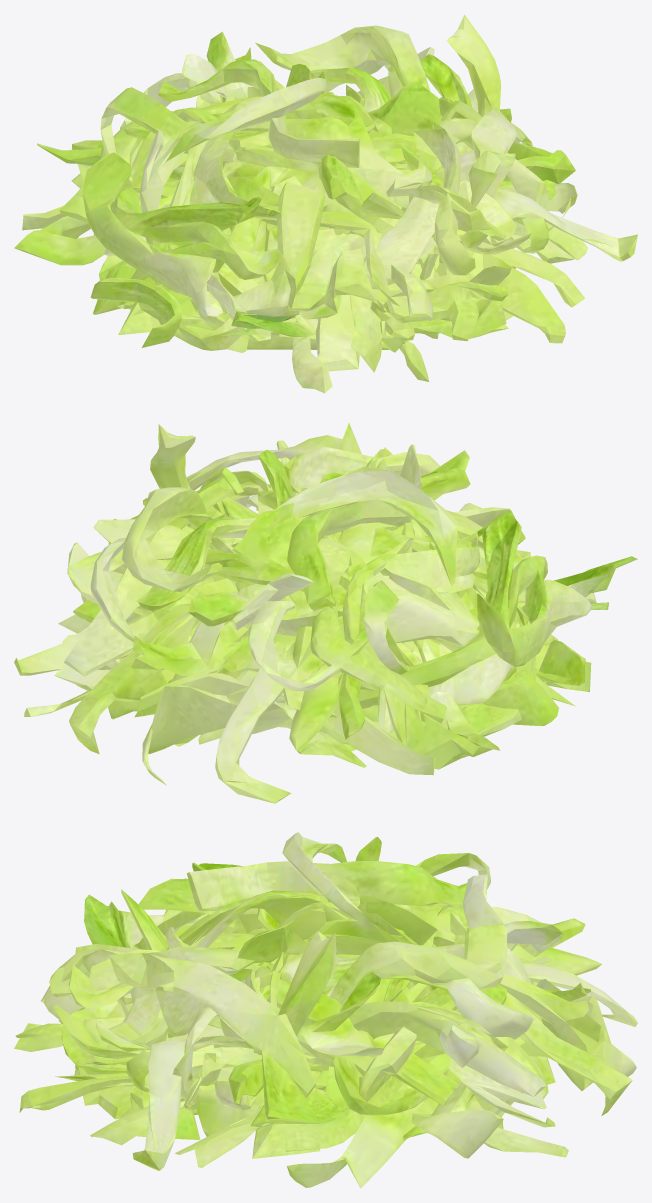
The model's file is lettuce.glb.
3 views of the same model, one above another, from view 1: azimuth 30°, elevation 25°; view 2: azimuth 150°, elevation 25°; view 3: azimuth 270°, elevation 25° (orthographic). The views are drawn at different scales.
Visible parts, largest first — view 1: Mesh_0; view 2: Mesh_0; view 3: Mesh_0.
Part boxes in pixels (x1,y1,x2,y2): Mesh_0: (14,14,637,393); Mesh_0: (14,423,637,803); Mesh_0: (14,832,637,1188).
Bounding box in the file's own units: 1.77 × 0.7758 × 1.9.
Materials: 1 (1 with a texture image).
